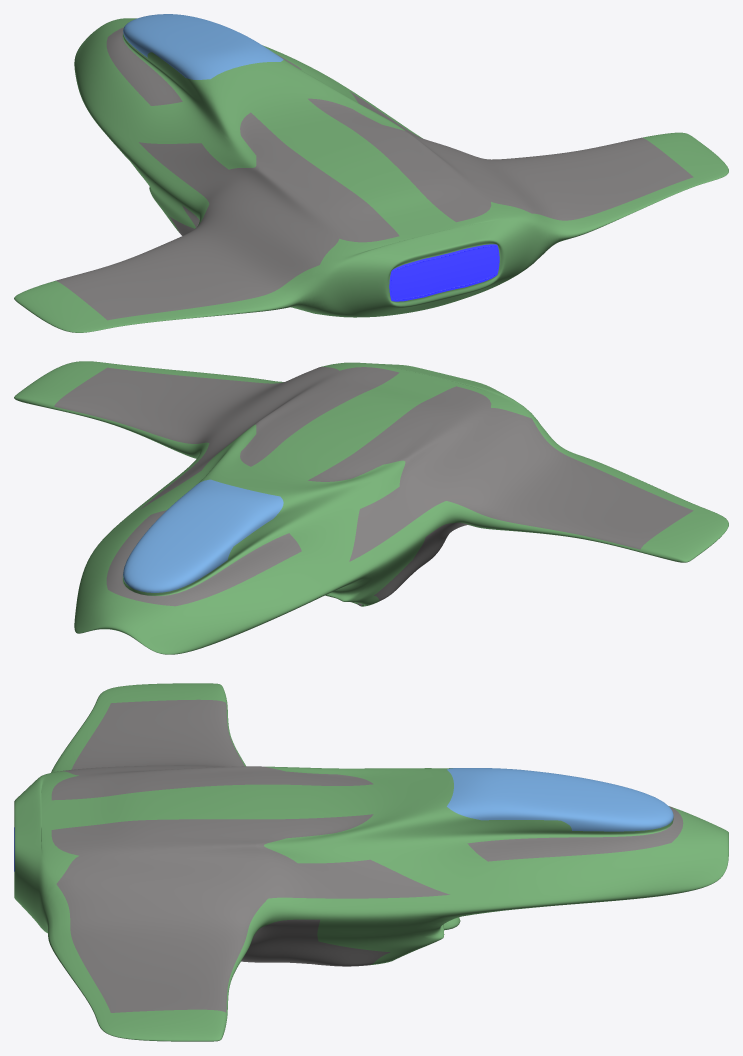
The model's file is 20170325 recon ship team green.fbx.
3 renders of one model, top to bottom at view 1: azimuth 30°, elevation 25°; view 2: azimuth 150°, elevation 25°; view 3: azimuth 270°, elevation 25°, orthographic. The views are drawn at different scales.
Parts seen in each view (by area): view 1: Plane; view 2: Plane; view 3: Plane.
Part boxes in pixels (<box>): Plane: <box>14,14,728,332</box>; Plane: <box>14,361,728,654</box>; Plane: <box>14,683,728,1041</box>.
Bounding box in the file's own units: 796 × 146 × 674.
